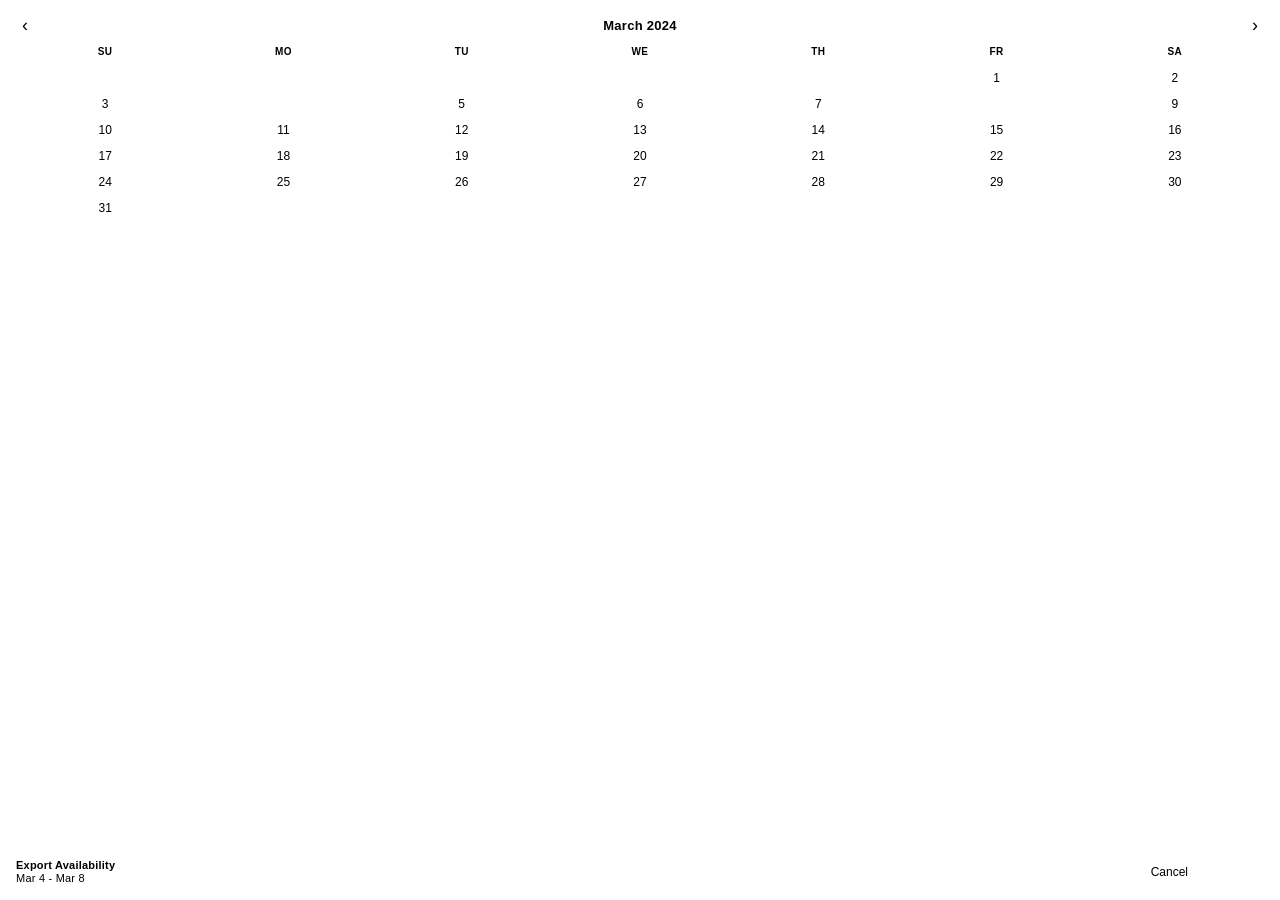
Scenario: DateRangePicker › navigates to previous month on ‹ click
Click the button "‹" at [25, 25], box [16,14,34,36]
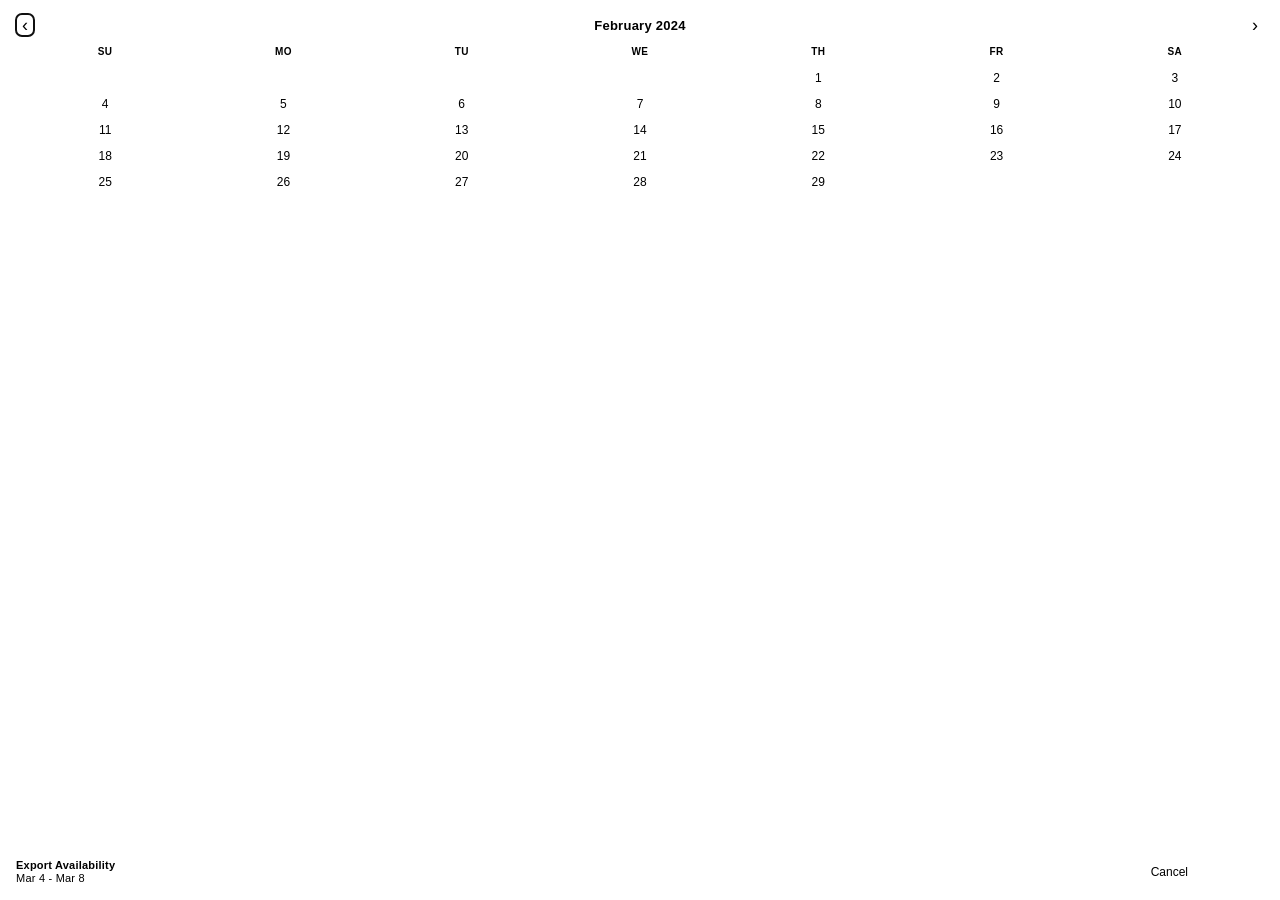
Result: the text "February 2024" is shown at [594,18,686,32]
